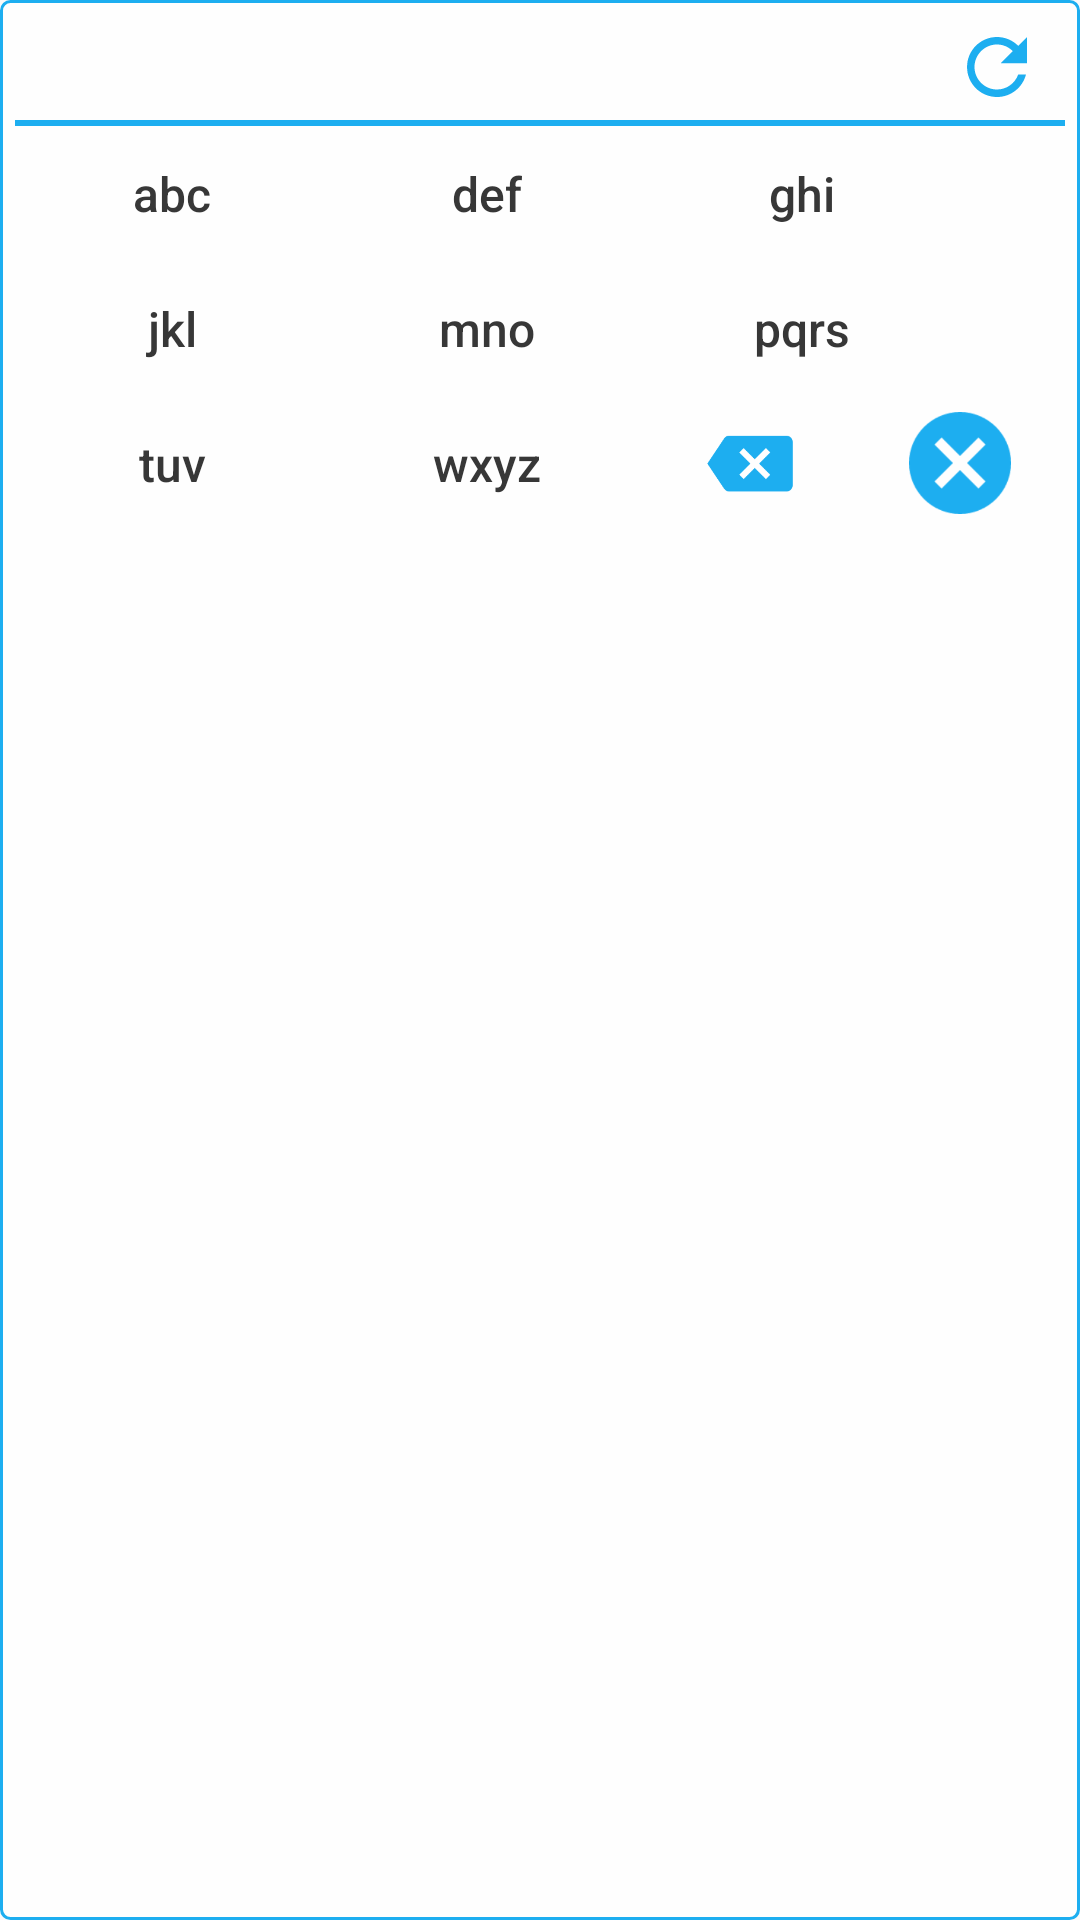

Screen size 1080w x 1920h. Icon name, then its box in pixels as (x1, y1, x2, y2):
backspace arrow: (707, 435, 793, 492)
cancel: (909, 412, 1011, 514)
refresh: (967, 37, 1027, 97)
